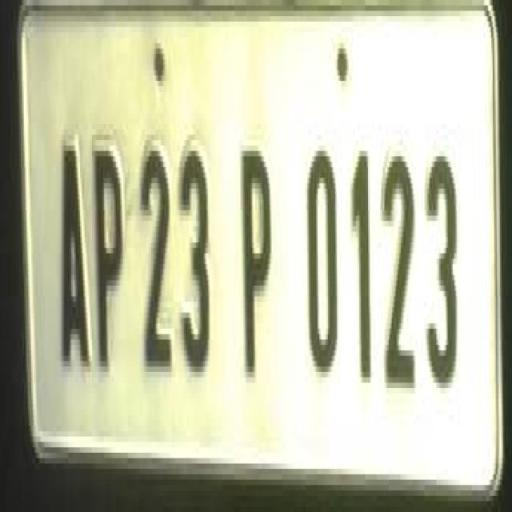number plate: (21, 0, 510, 491)
